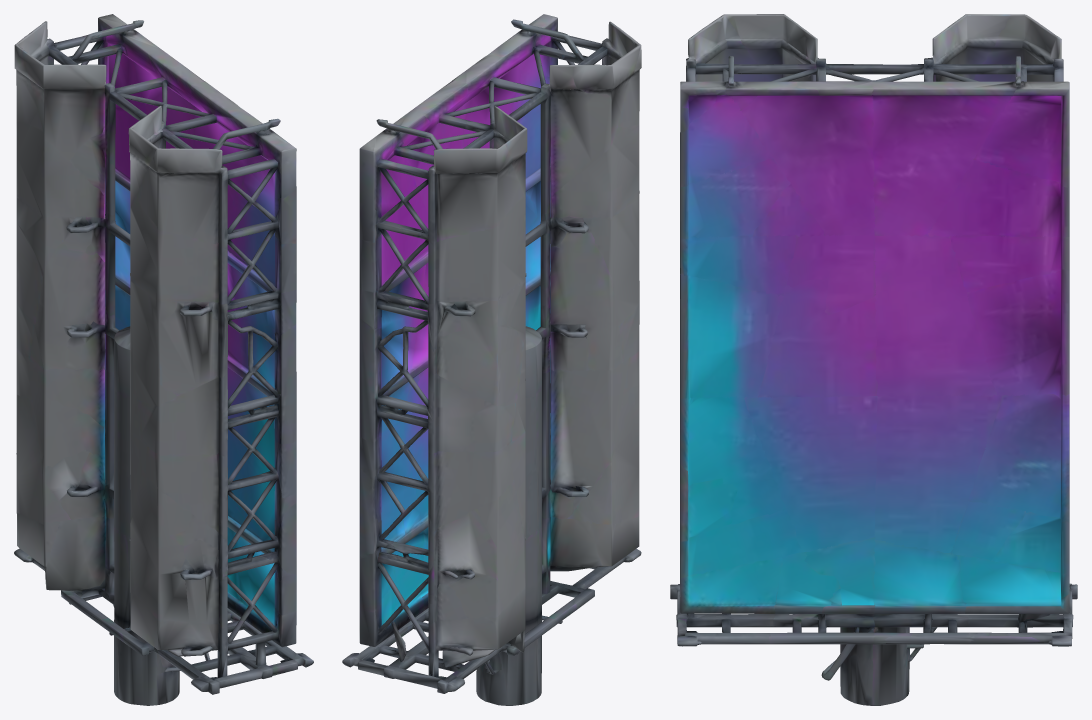
File: billboard.glb
3 renders of one model, left to right at view 1: azimuth 30°, elevation 25°; view 2: azimuth 150°, elevation 25°; view 3: azimuth 270°, elevation 25°, orthographic. The views are drawn at different scales.
Parts seen in each view (by area): view 1: node_6ec2393d-5ad6-475d-ab2e-3c6d0217f111; view 2: node_6ec2393d-5ad6-475d-ab2e-3c6d0217f111; view 3: node_6ec2393d-5ad6-475d-ab2e-3c6d0217f111.
Part boxes in pixels (<box>): node_6ec2393d-5ad6-475d-ab2e-3c6d0217f111: <box>14,14,313,705</box>; node_6ec2393d-5ad6-475d-ab2e-3c6d0217f111: <box>342,14,641,705</box>; node_6ec2393d-5ad6-475d-ab2e-3c6d0217f111: <box>670,14,1077,705</box>.
Size of the model in its own units: 0.2327 by 0.9999 by 0.5708.
Materials: 1 (1 with a texture image).
